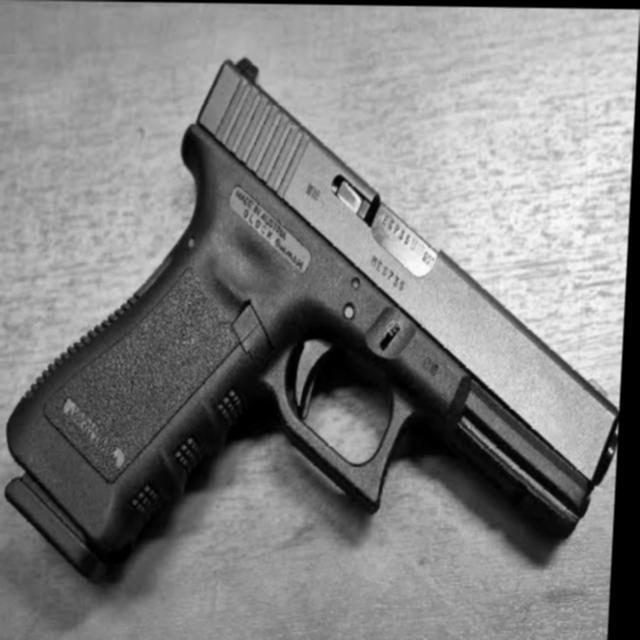weapon: (0, 47, 638, 596)
